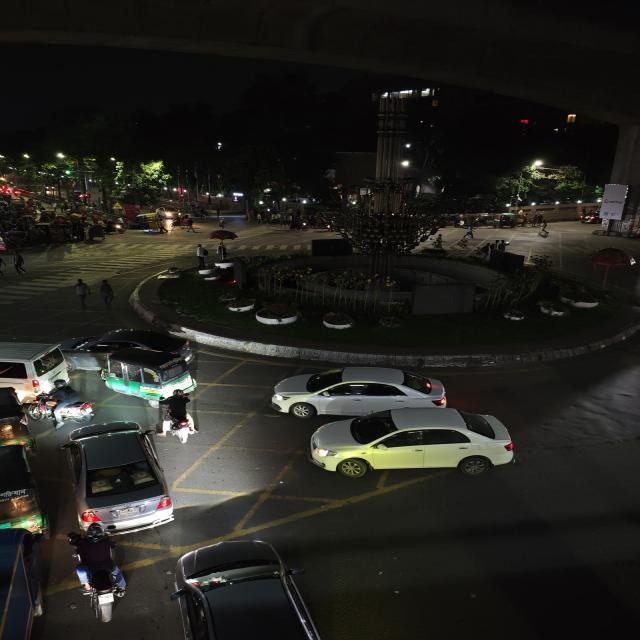bus: (60, 419, 177, 535), (0, 526, 45, 640)
car: (164, 534, 335, 640), (306, 405, 522, 483), (61, 418, 177, 536), (264, 364, 452, 418), (69, 327, 200, 359), (0, 337, 73, 393)
cng: (100, 347, 204, 399), (0, 441, 43, 536), (0, 384, 29, 444), (496, 215, 519, 229)
motorcycle: (65, 523, 132, 623), (31, 379, 97, 425), (157, 389, 203, 443), (106, 221, 123, 235)
pedestrian: (66, 277, 95, 311), (95, 278, 118, 310), (8, 252, 28, 278), (536, 219, 552, 240), (193, 245, 207, 268), (462, 226, 476, 240), (186, 219, 195, 235), (218, 217, 227, 231)
rickshaw: (134, 214, 165, 234), (86, 225, 105, 240), (169, 215, 187, 228)
